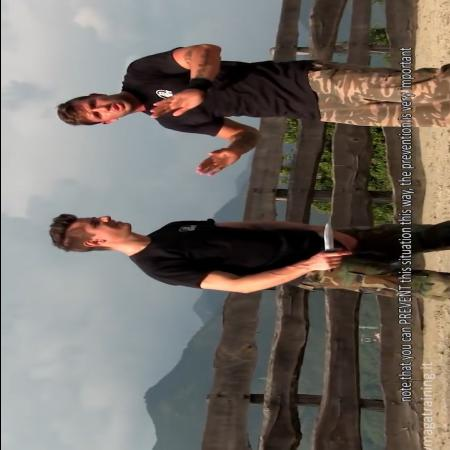long weapon: (316, 220, 352, 274)
